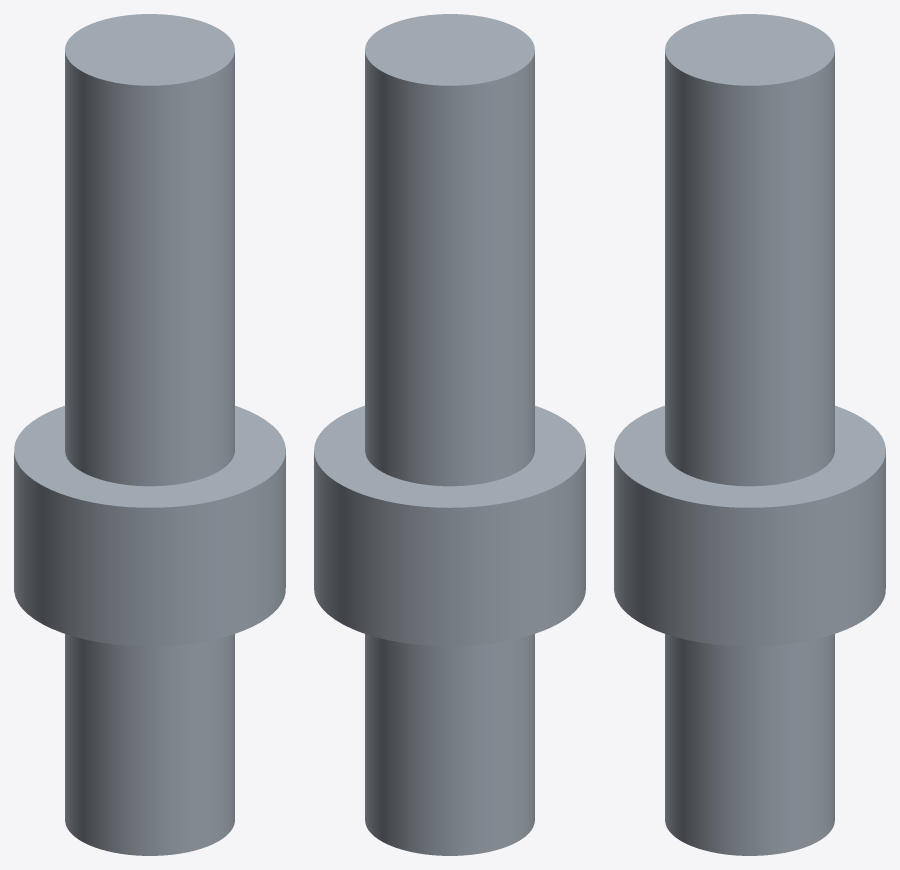
Rendered from Test_Welle.glb.
3 renders of one model, left to right at view 1: azimuth 30°, elevation 25°; view 2: azimuth 150°, elevation 25°; view 3: azimuth 270°, elevation 25°, orthographic.
Parts seen in each view (by area): view 1: Welle; view 2: Welle; view 3: Welle.
Boxes of the visible parts, x1,y1,x2,y2 form: Welle: [14, 14, 285, 855]; Welle: [314, 14, 585, 855]; Welle: [614, 14, 885, 855].
Size of the model in its own units: 0.032 by 0.1 by 0.032.
